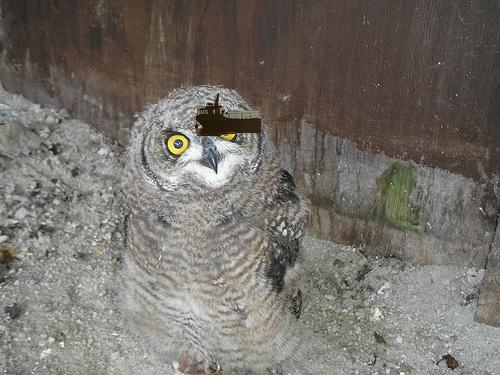tampered: (196, 94, 261, 136)
